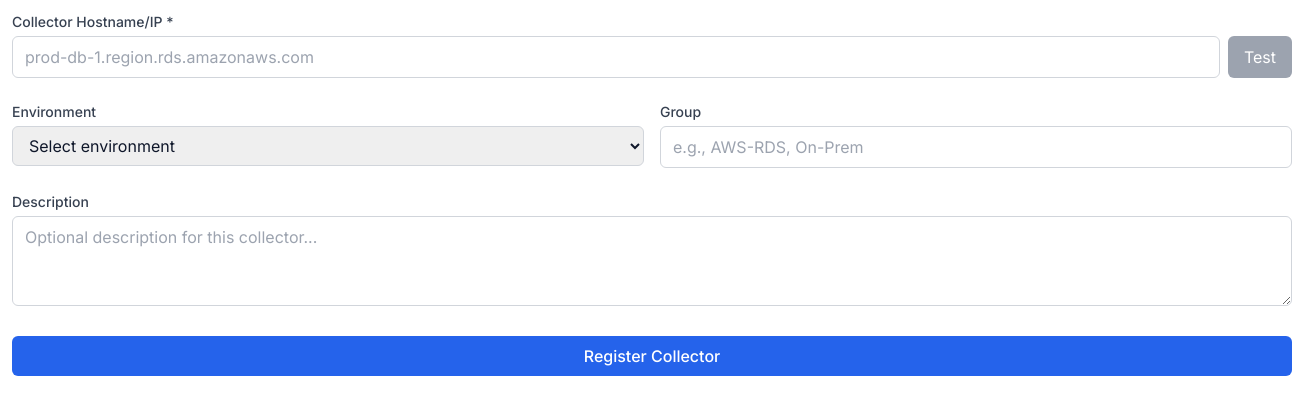
Test: CollectorForm › Form validation › should clear validation error when hostname is entered
Submit empty to trigger error
Step 1. Click the button "Register Collector" → (652, 356), box x1=12 y1=336 x2=1292 y2=376
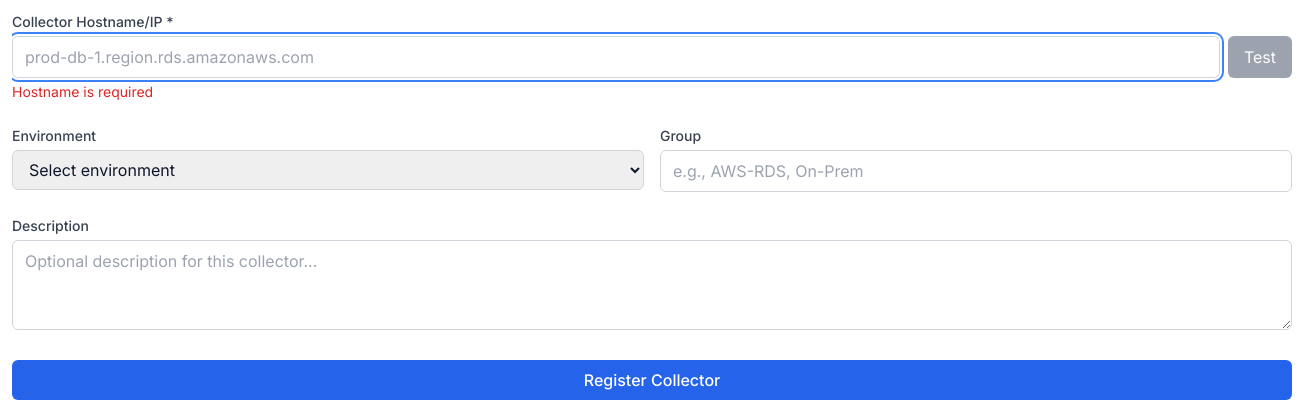
Expected: the text "Hostname is required" is shown, x1=12 y1=83 x2=153 y2=100
Type hostname using placeholder
Step 2. Type "localhost" into the field with placeholder "prod-db-1.region.rds.amazonaws.com" → (616, 57), box x1=12 y1=36 x2=1220 y2=78
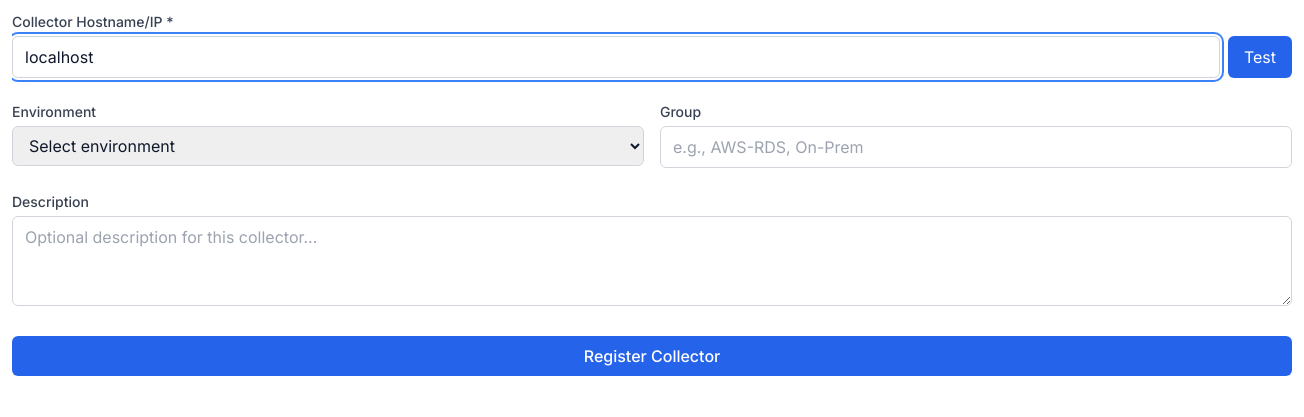
Expected: the text "Hostname is required" is gone
